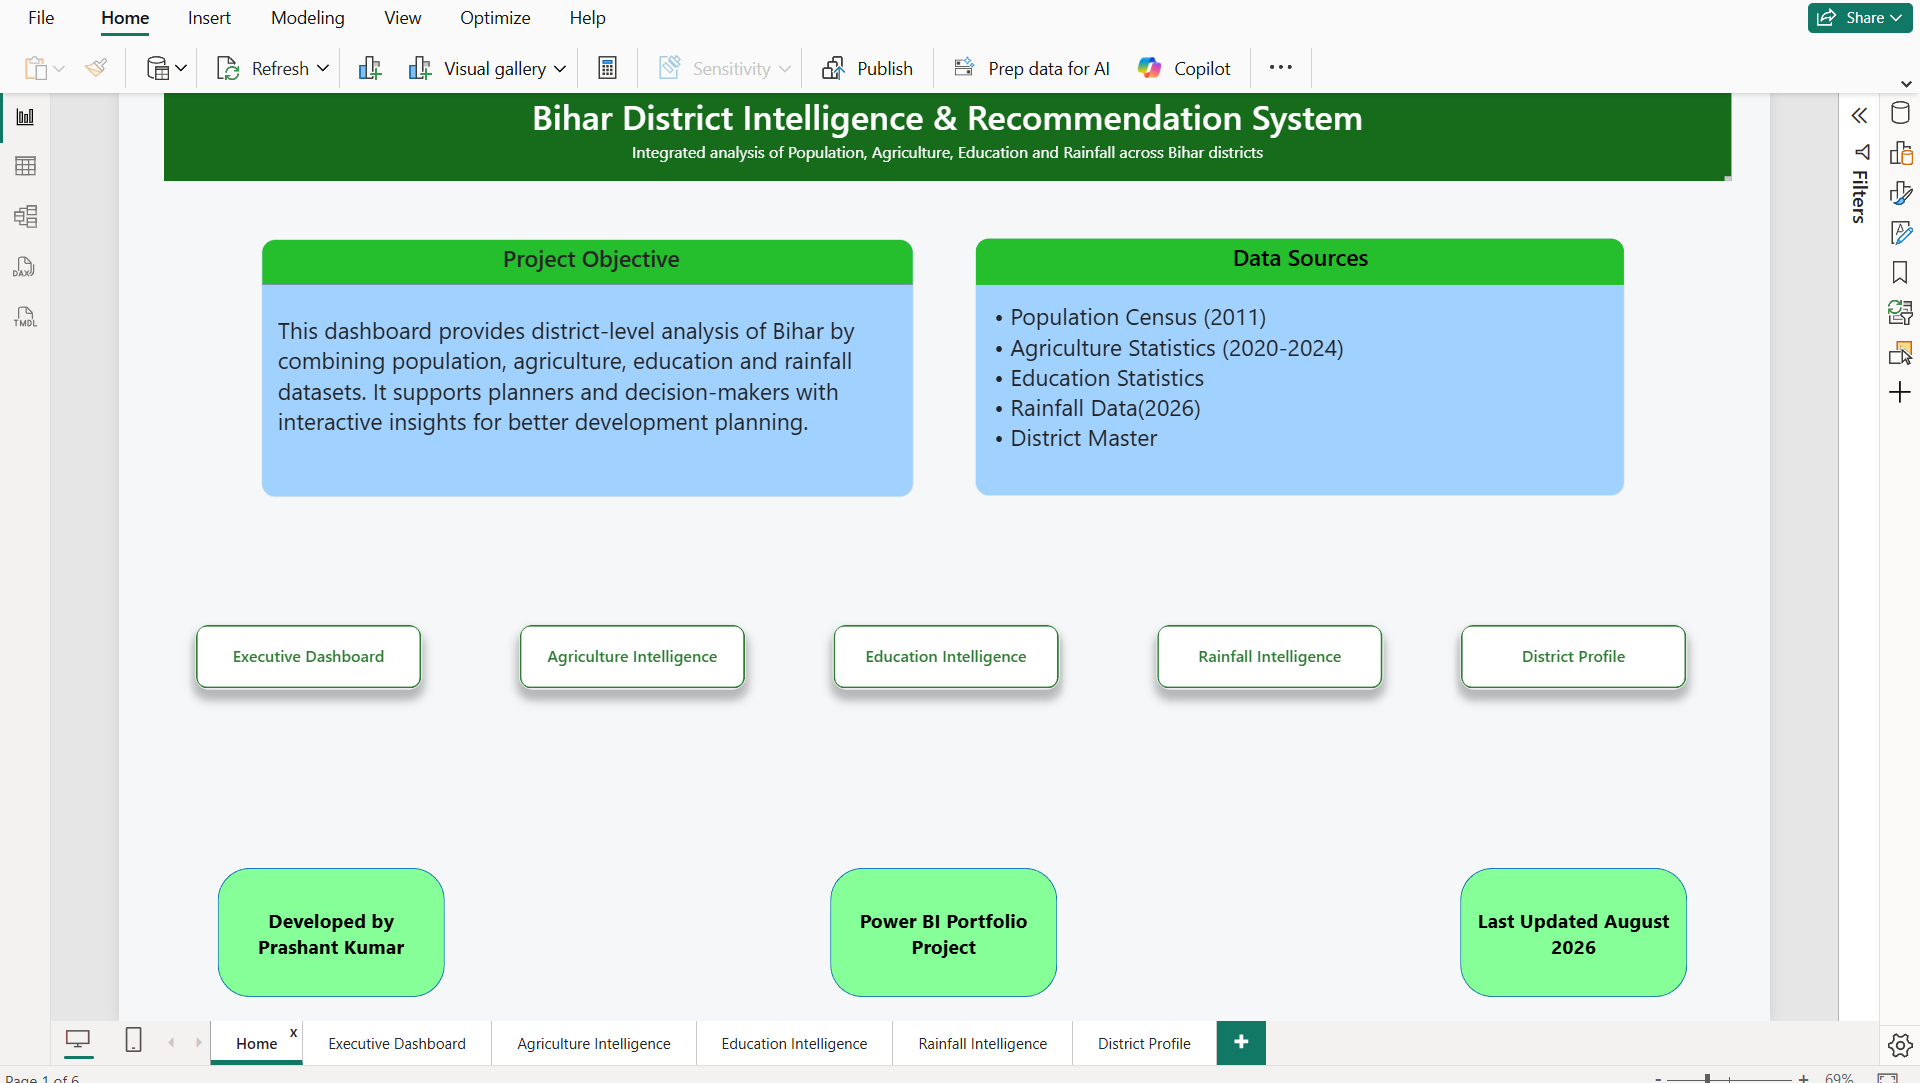

This screenshot's page, from the dashboard's own definition file:
{"tool":"powerbi","page":{"name":"Home","canvas":[1920,1080],"ordinal":0},"visuals":[{"type":"textbox","title":"Bihar District Intelligence & Recommendation System","box":[52.1,0,1822.9,102.5],"z":0},{"type":"textbox","title":"Project Objective","box":[165.2,169.9,758.7,300.2],"z":1000},{"type":"textbox","title":"Data Sources","box":[996.1,168.4,755.1,300.2],"z":2000},{"type":"actionButton","box":[88.1,618.4,264,75.7],"z":3000},{"type":"actionButton","box":[465.6,618.4,264,75.7],"z":4000},{"type":"actionButton","box":[830.6,618.4,264,75.7],"z":5000},{"type":"actionButton","box":[1206.3,618.4,264,75.7],"z":6000},{"type":"actionButton","box":[1560.4,618.4,264,75.7],"z":7000},{"type":"shape","box":[115.4,901,264,150],"z":8000},{"type":"shape","box":[827.8,901,264,150],"z":9000},{"type":"shape","box":[1560.5,901,264,150],"z":10000}]}

Visuals, with their boxes on the page's 1920x1080 design canvas (x1, y1, x2, y2). These are canvas units, not pixel positions in the 1920x1083 screenshot, which may show the page scaled, cropped or inside an application window:
"Bihar District Intelligence & Recommendation System" textbox: (x1=52, y1=0, x2=1875, y2=102)
"Project Objective" textbox: (x1=165, y1=170, x2=924, y2=470)
"Data Sources" textbox: (x1=996, y1=168, x2=1751, y2=469)
actionButton: (x1=88, y1=618, x2=352, y2=694)
actionButton: (x1=466, y1=618, x2=730, y2=694)
actionButton: (x1=831, y1=618, x2=1095, y2=694)
actionButton: (x1=1206, y1=618, x2=1470, y2=694)
actionButton: (x1=1560, y1=618, x2=1824, y2=694)
shape: (x1=115, y1=901, x2=379, y2=1051)
shape: (x1=828, y1=901, x2=1092, y2=1051)
shape: (x1=1560, y1=901, x2=1824, y2=1051)
